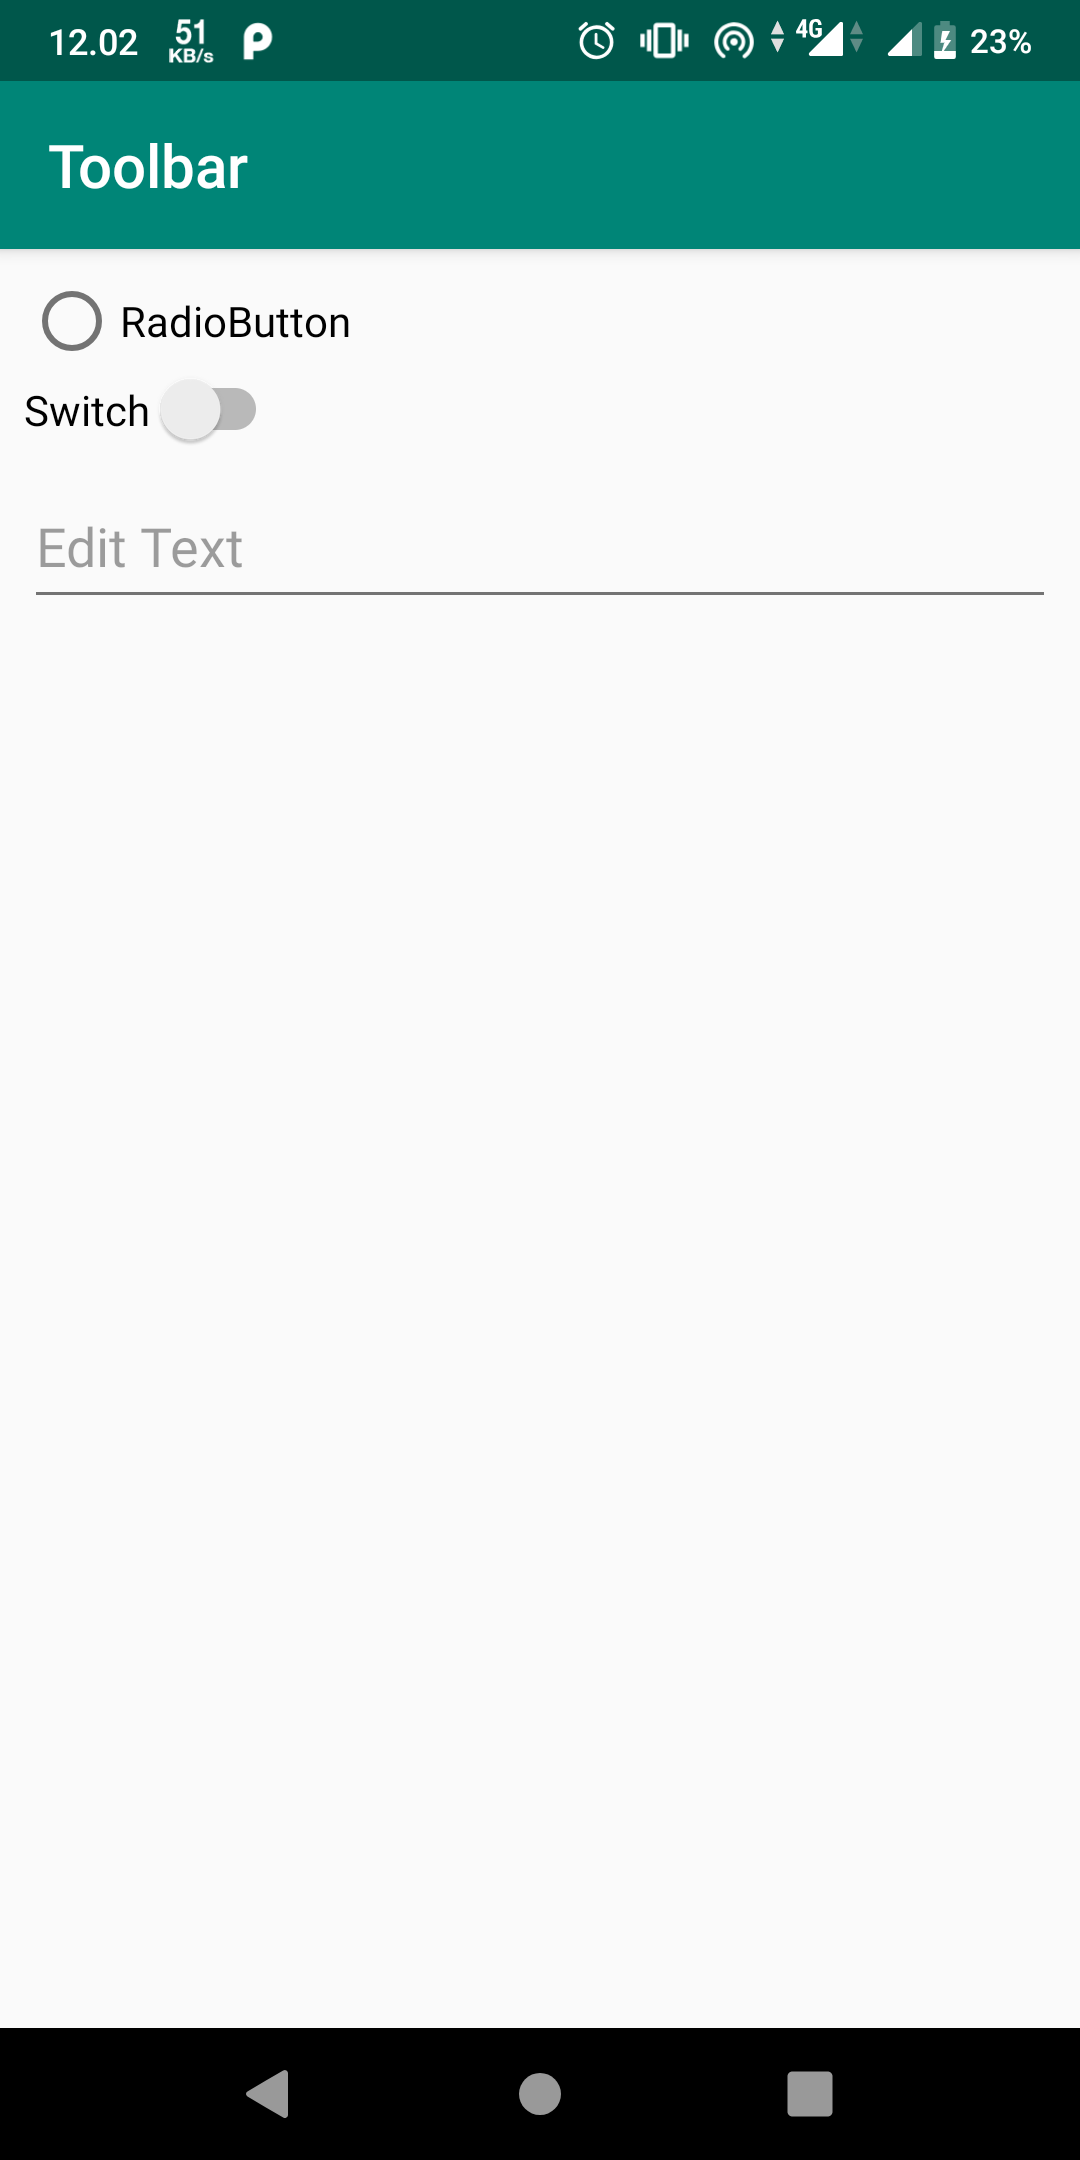editText: (28, 515, 1051, 609)
radioButton: (19, 282, 380, 364)
switch: (12, 380, 291, 438)
toolbar: (6, 80, 1080, 244)
